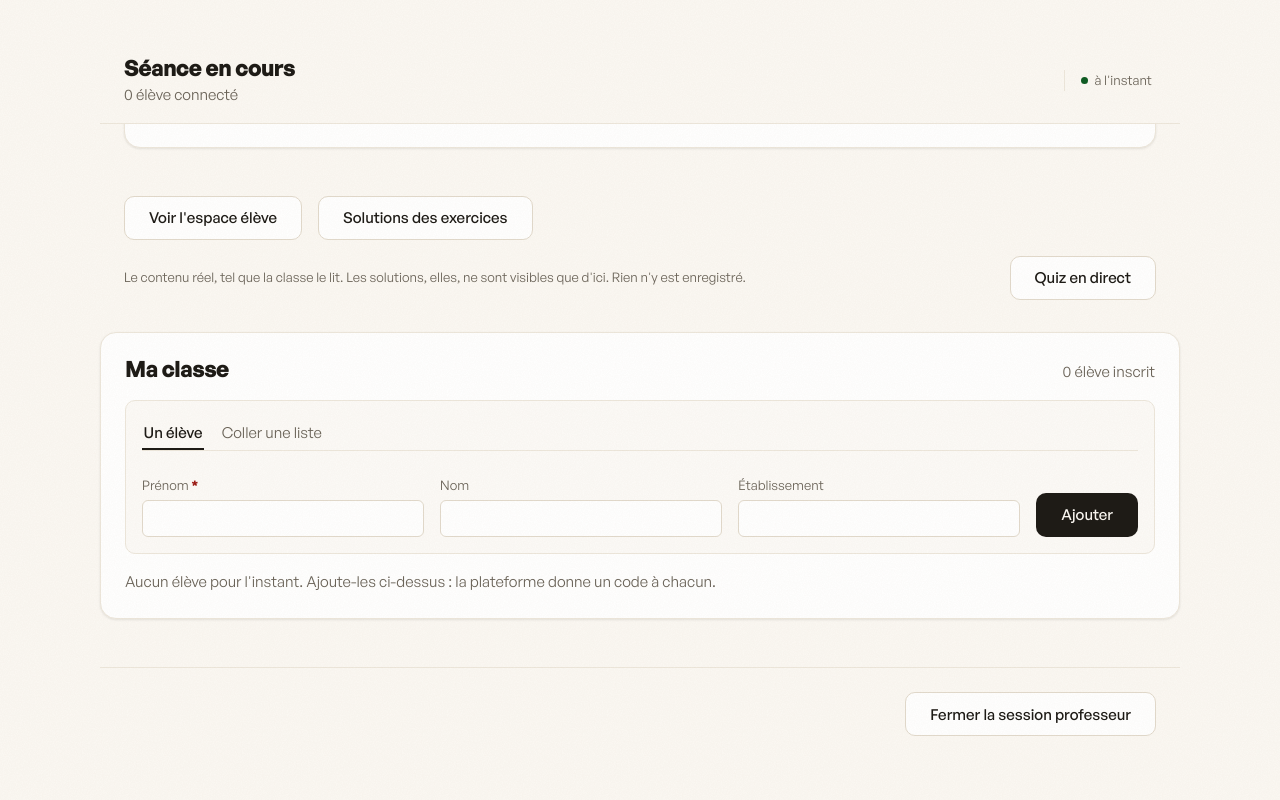
Test: EcranProf — la session › referme la session et efface le jeton
The image size is (1280, 800).
(page scrolled)
Step 1. Click the button "Fermer la session professeur" → (1031, 714), box [905, 692, 1156, 736]
(page scrolled)
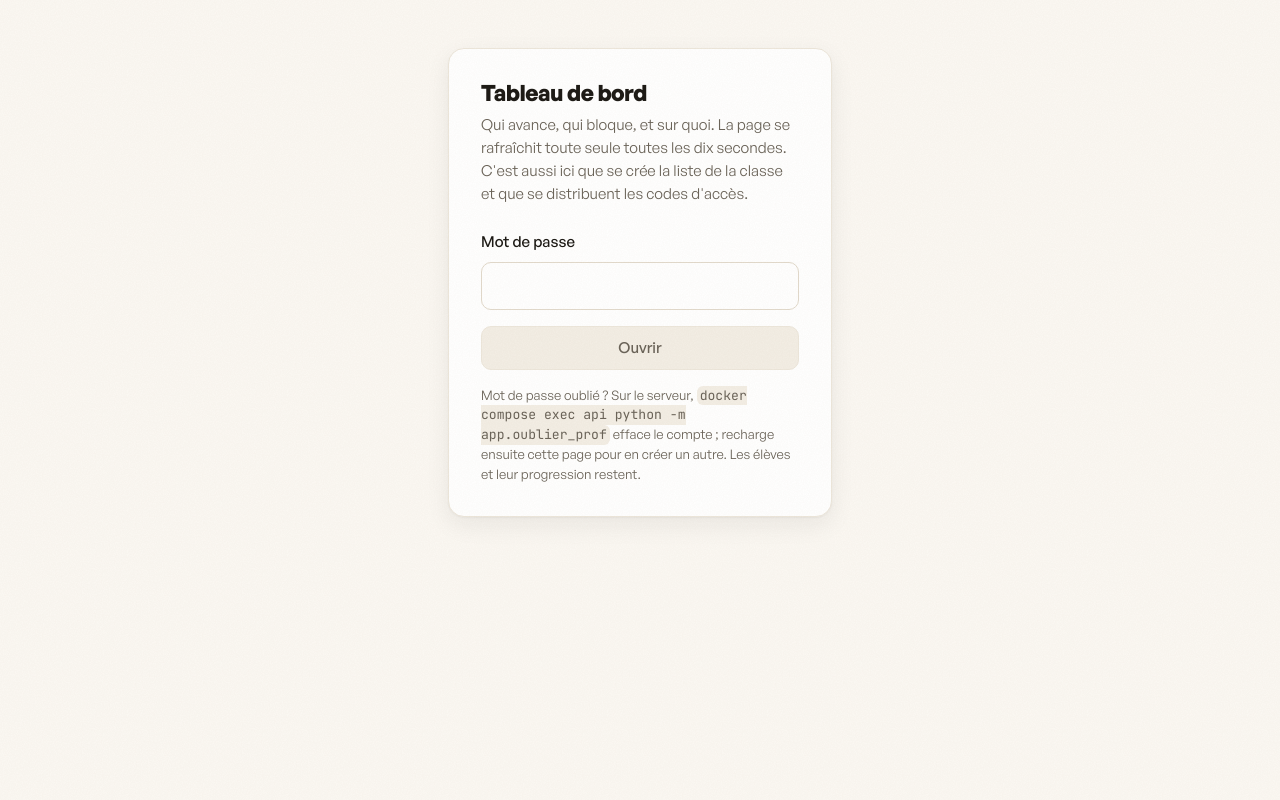
Result: the password field labelled "Mot de passe" is shown at [481, 262, 799, 310]
